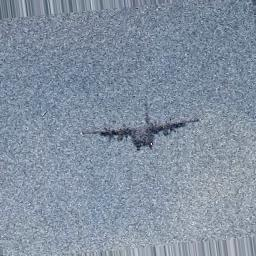Airplane: (84, 112, 201, 150)
